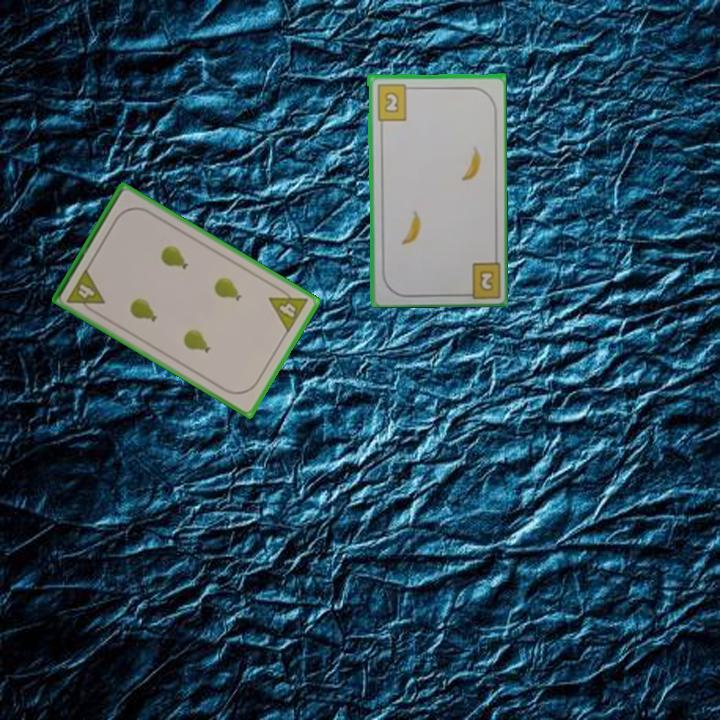2b: (373, 80, 415, 122), (475, 266, 497, 294)
4p: (265, 282, 311, 336), (63, 265, 108, 317)
